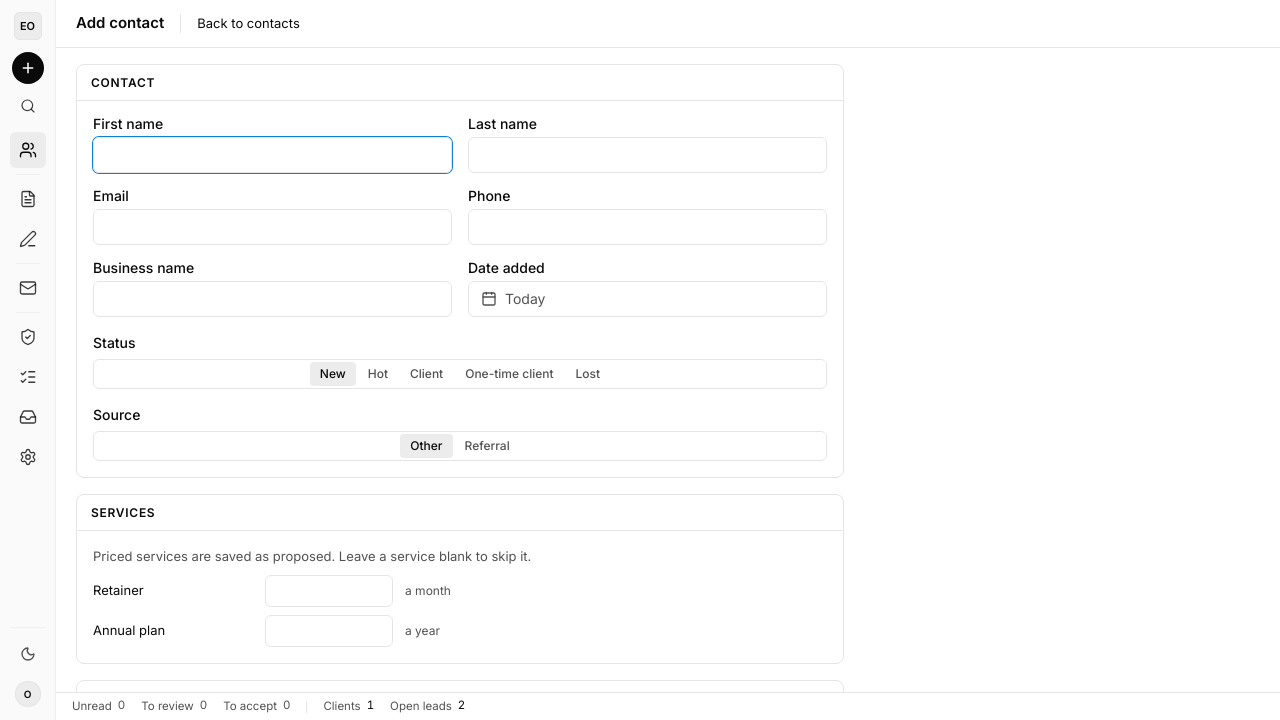
intake › saves the contact, its first note and an audit row, then opens the record
Type "Di" into the field labelled "First name" at (272, 155), box [93,137,452,173]
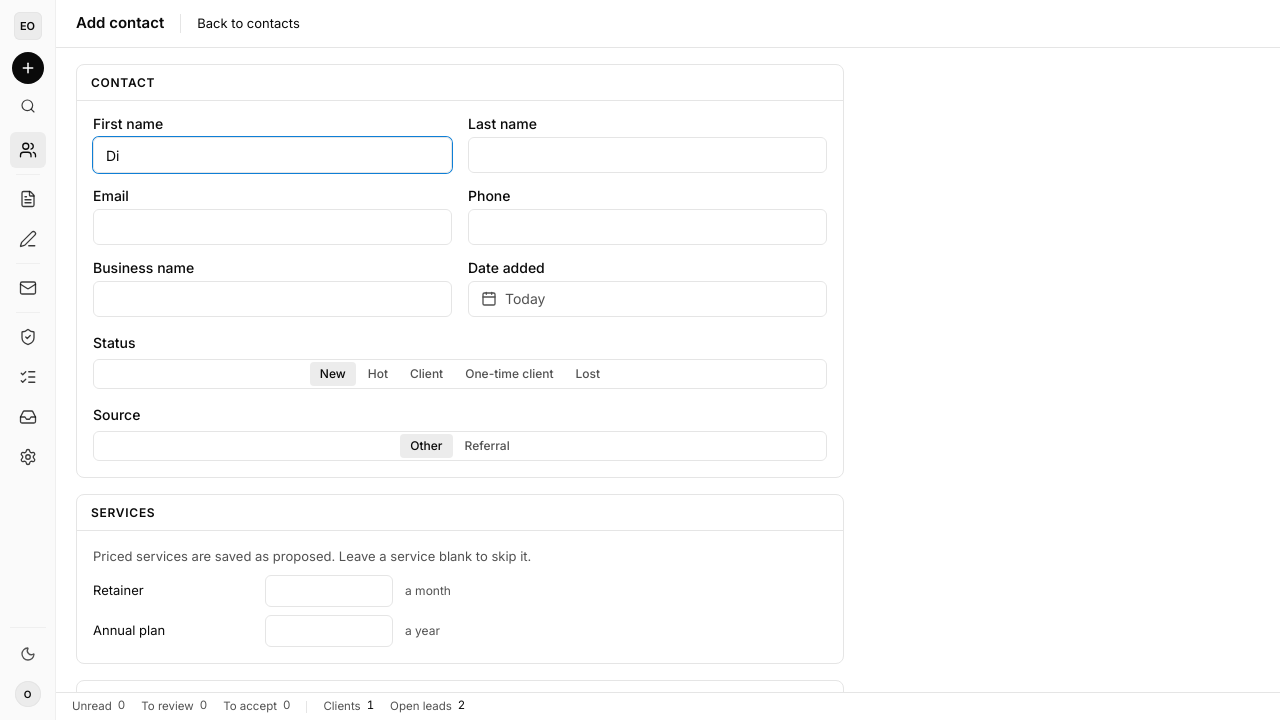
Type "Demo" into the field labelled "Last name" at (648, 155), box [468,137,827,173]
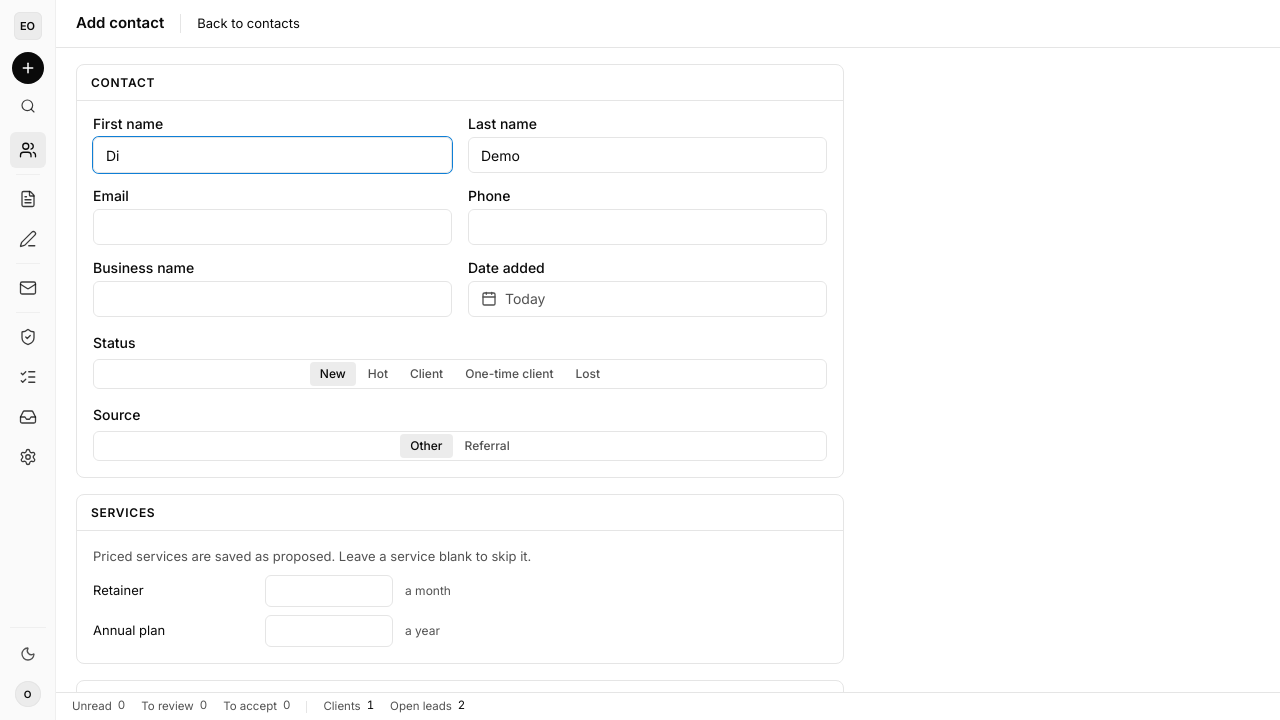
Type "di@example.com" into the field labelled "Email" at (272, 227), box [93,209,452,245]
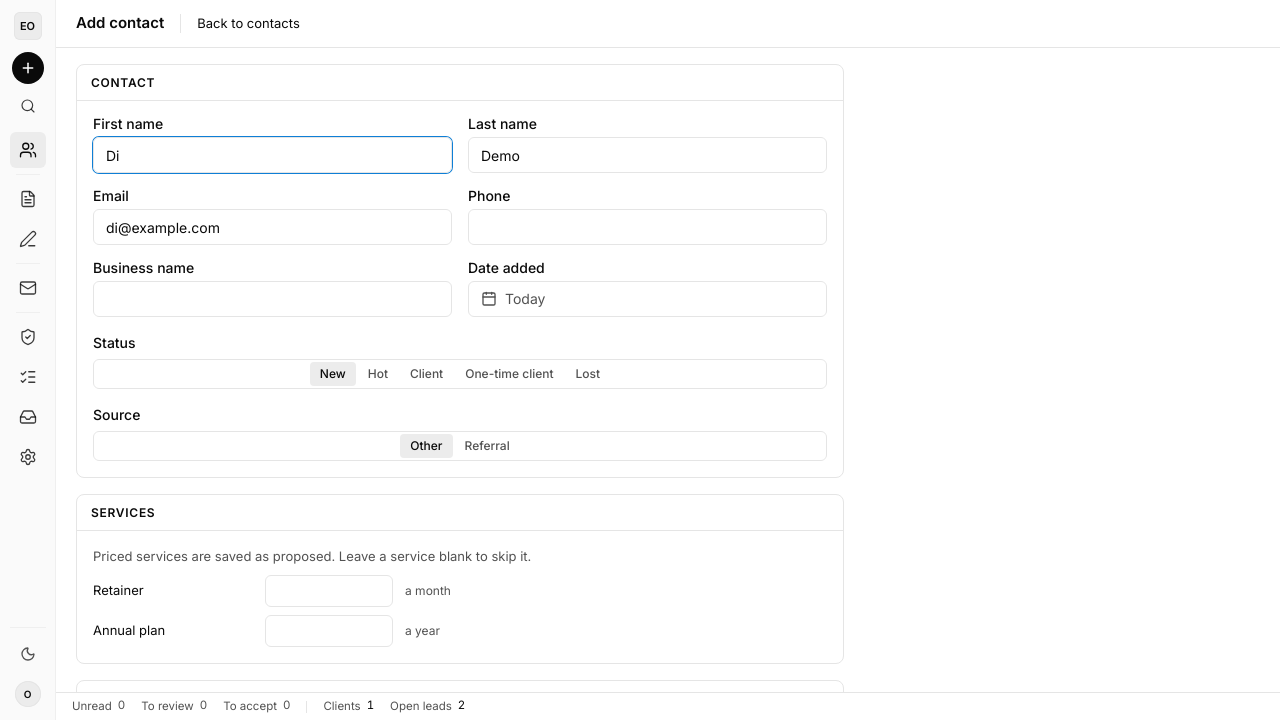
Click the radio button labelled "Referral" at (487, 446), box [454,434,520,458]
(page scrolled)
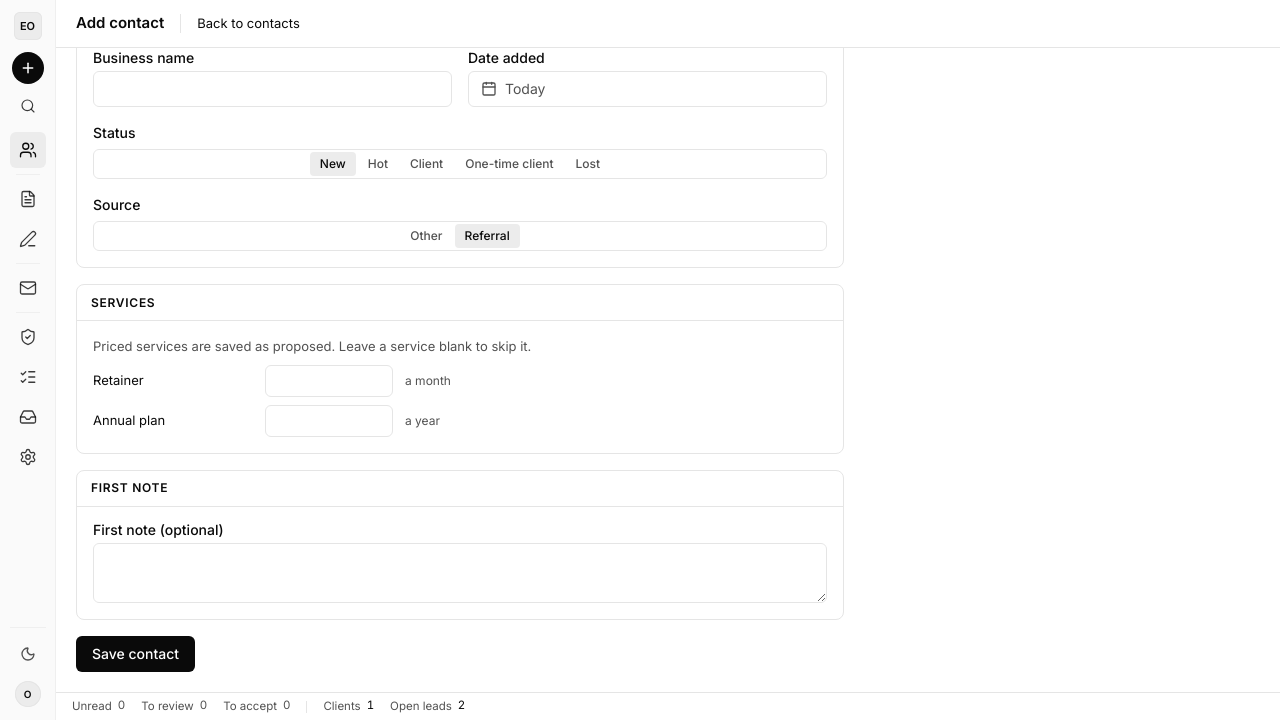
Type "Met at the open day." into the text box labelled "First note (optional)" at (460, 572), box [93,542,827,602]
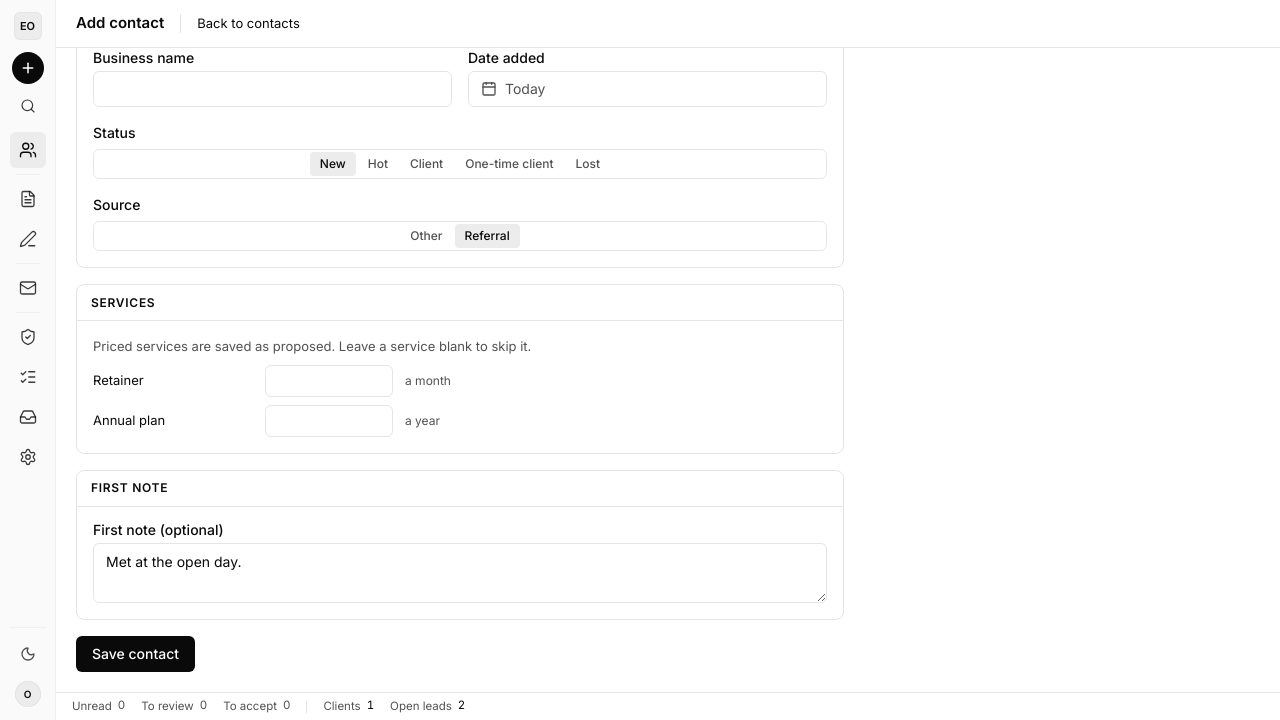
Click the button "Save contact" at (136, 654), box [76,636,195,672]
(page scrolled)
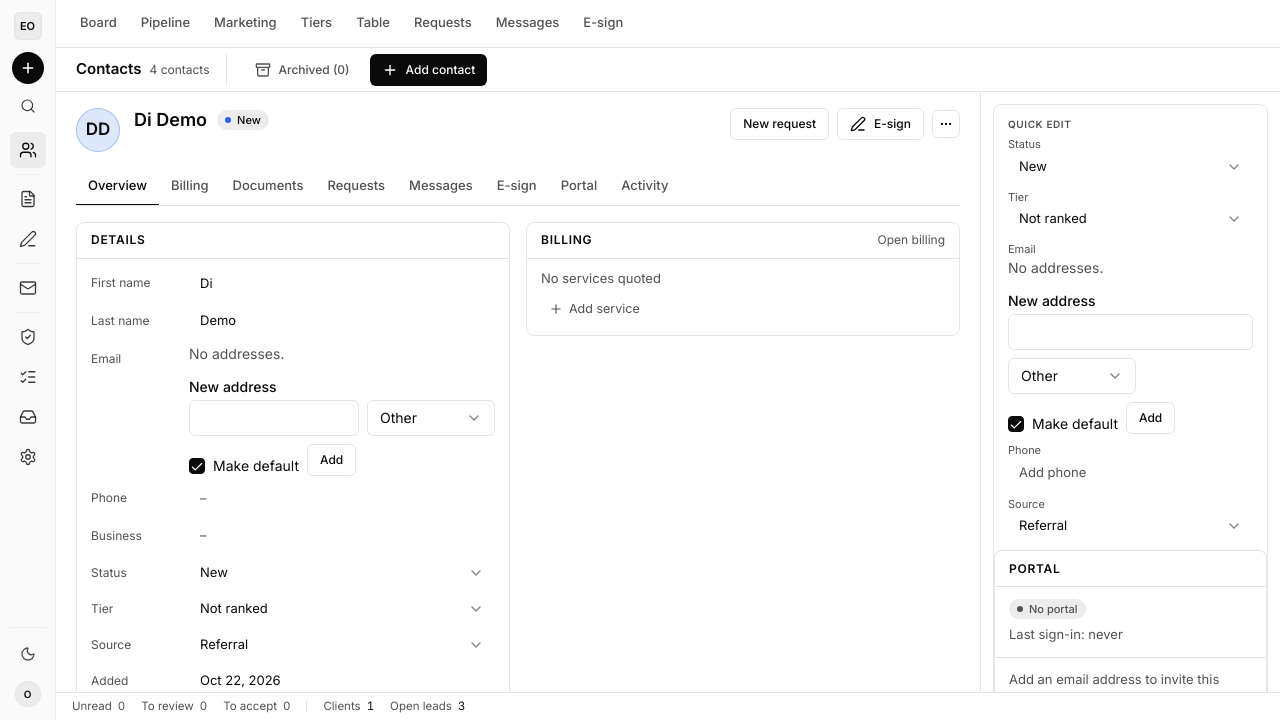
Expected: the heading "Di Demo" is shown, [134,108,207,132]
